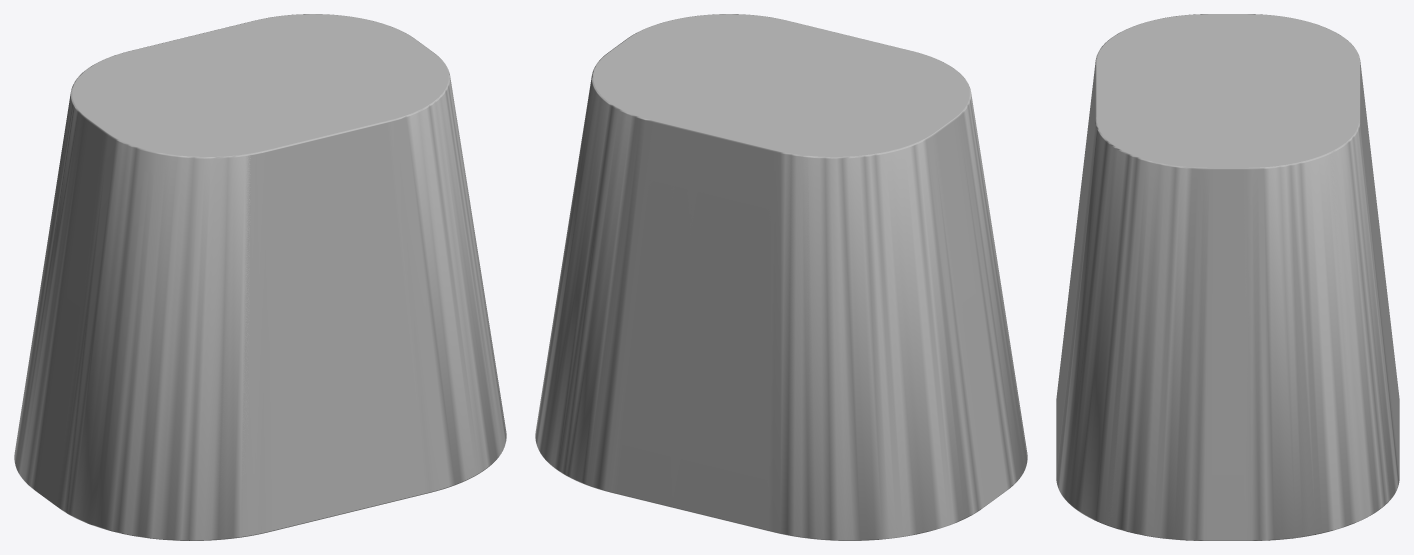
File: Oval Column in middle.glb
The picture shows the model from 3 angles, left to right: view 1: azimuth 30°, elevation 25°; view 2: azimuth 150°, elevation 25°; view 3: azimuth 270°, elevation 25°; orthographic projection. The views are drawn at different scales.
Parts seen in each view (by area): view 1: Rectangle_Oval_Column_in_middle_wood_LEG_ALL_SIZE, Verbaan_Oval_Column_in_middle_wood_LEG_ALL_SIZE.001; view 2: Rectangle_Oval_Column_in_middle_wood_LEG_ALL_SIZE, Verbaan_Oval_Column_in_middle_wood_LEG_ALL_SIZE.001; view 3: Rectangle_Oval_Column_in_middle_wood_LEG_ALL_SIZE, Verbaan_Oval_Column_in_middle_wood_LEG_ALL_SIZE.001.
Part boxes in pixels (bbox=[...]): Rectangle_Oval_Column_in_middle_wood_LEG_ALL_SIZE: bbox=[14, 14, 506, 540]; Verbaan_Oval_Column_in_middle_wood_LEG_ALL_SIZE.001: bbox=[19, 16, 506, 540]; Rectangle_Oval_Column_in_middle_wood_LEG_ALL_SIZE: bbox=[535, 14, 1027, 540]; Verbaan_Oval_Column_in_middle_wood_LEG_ALL_SIZE.001: bbox=[562, 20, 1027, 540]; Rectangle_Oval_Column_in_middle_wood_LEG_ALL_SIZE: bbox=[1056, 14, 1399, 540]; Verbaan_Oval_Column_in_middle_wood_LEG_ALL_SIZE.001: bbox=[1089, 15, 1394, 540].
Size of the model in its own units: 0.8909 by 0.7232 by 0.6434.
6 materials, 6 textured.
